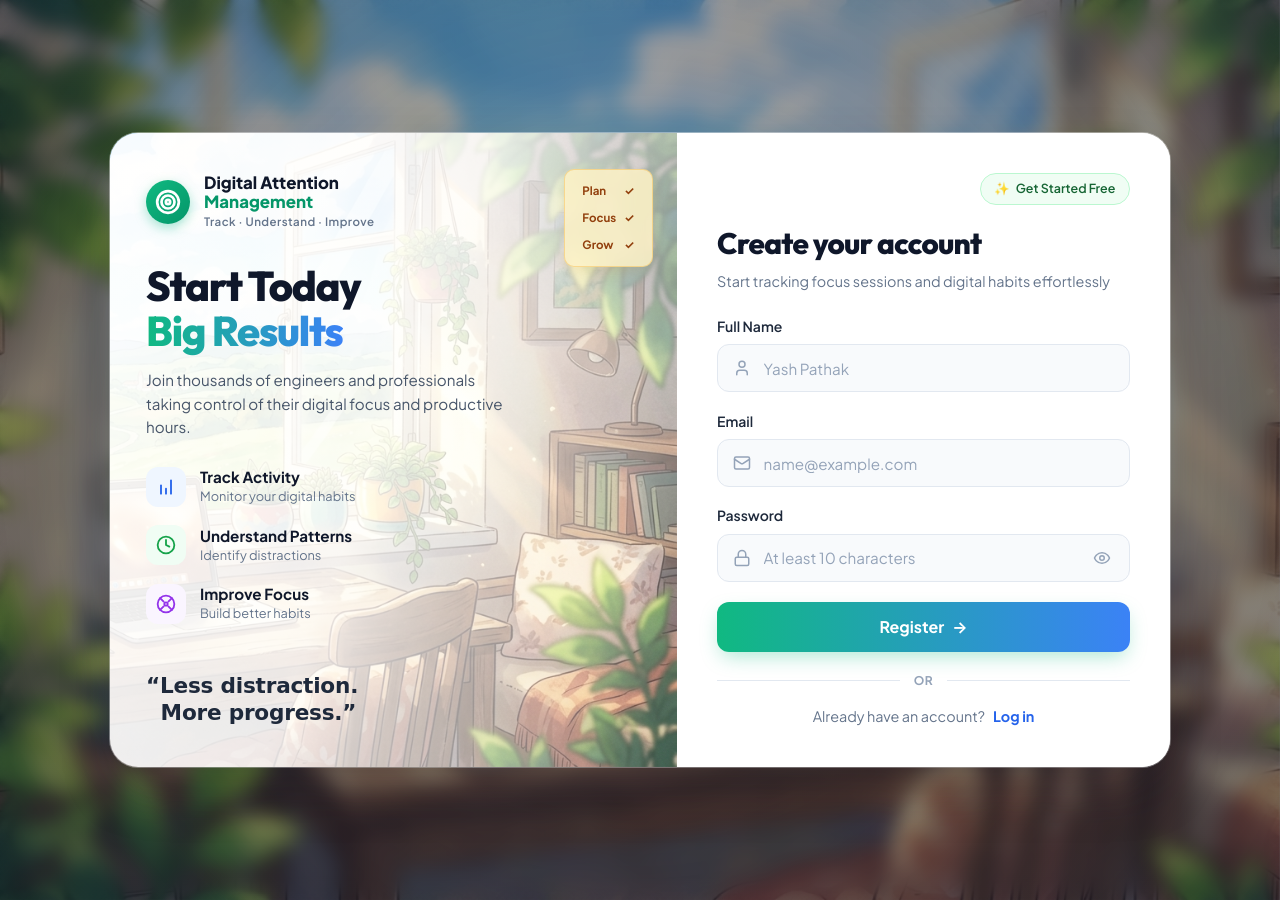
Scenario: Auth Feature › register validation shows field errors for invalid input
The image size is (1280, 900).
Type "not-an-email" into the field labelled "Email" at (924, 463), box top-left (717, 439), bottom-right (1130, 487)
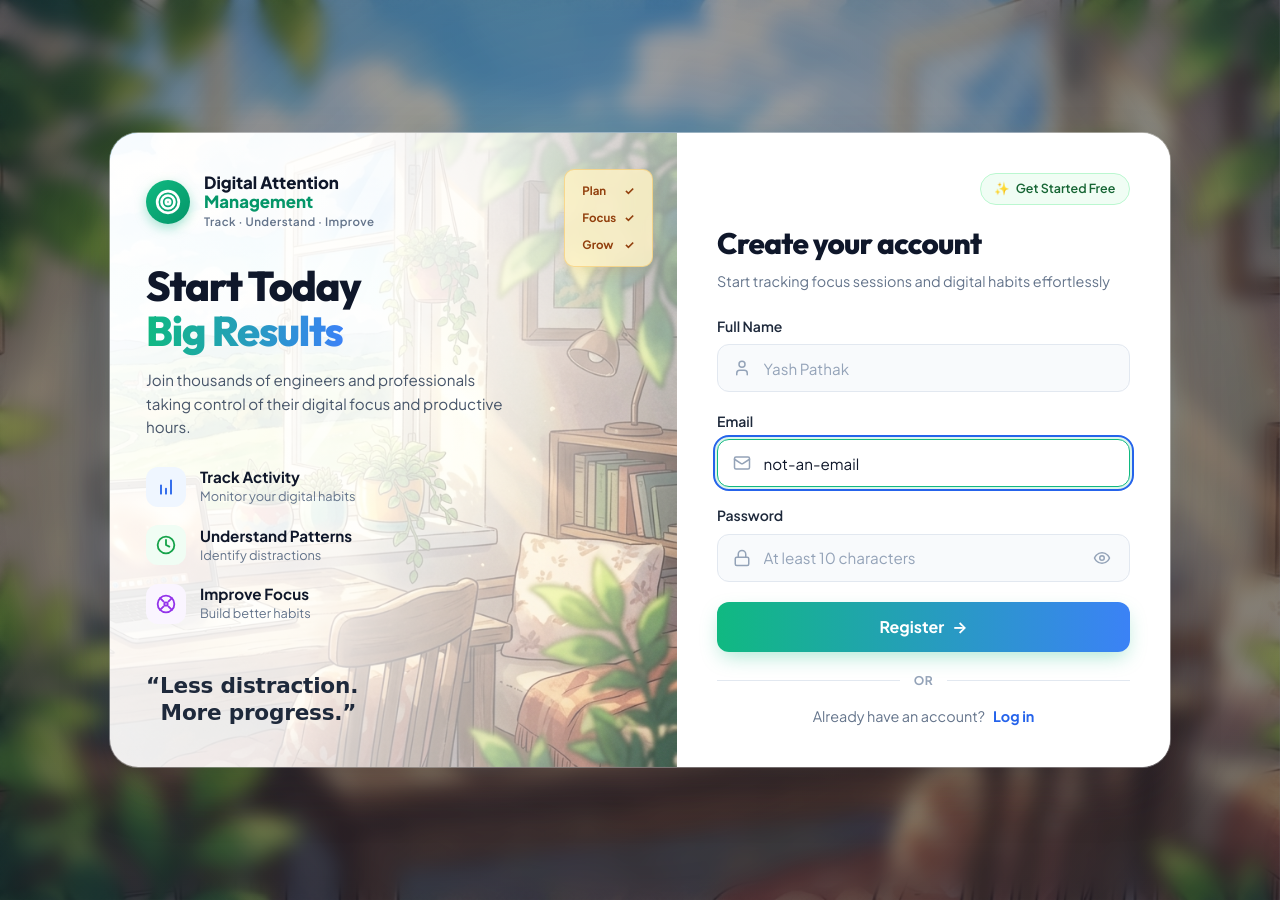
Type "short" into the password field labelled "Password" at (924, 558), box top-left (717, 534), bottom-right (1130, 582)
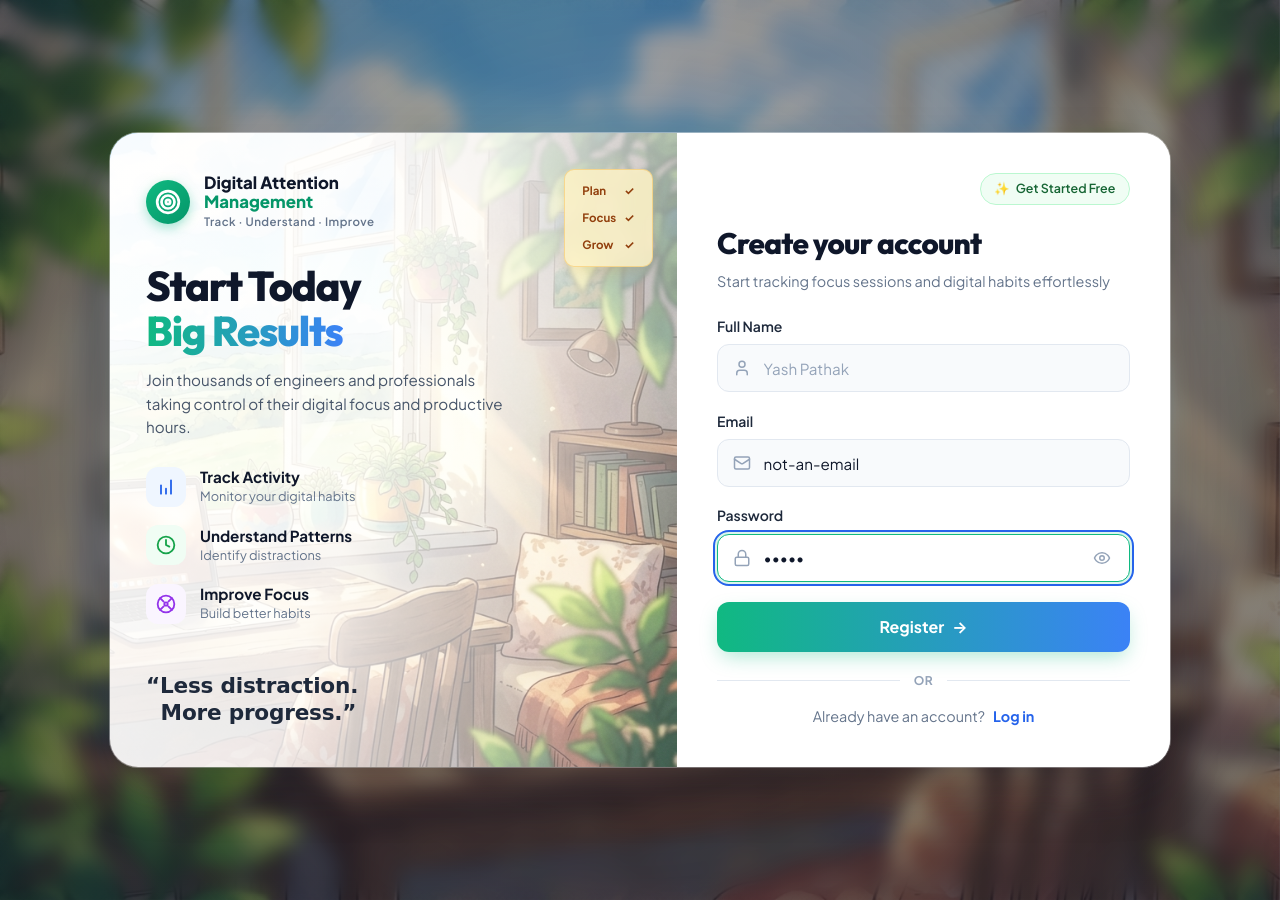
Click the button "Register →" at (924, 627), box top-left (717, 602), bottom-right (1130, 652)
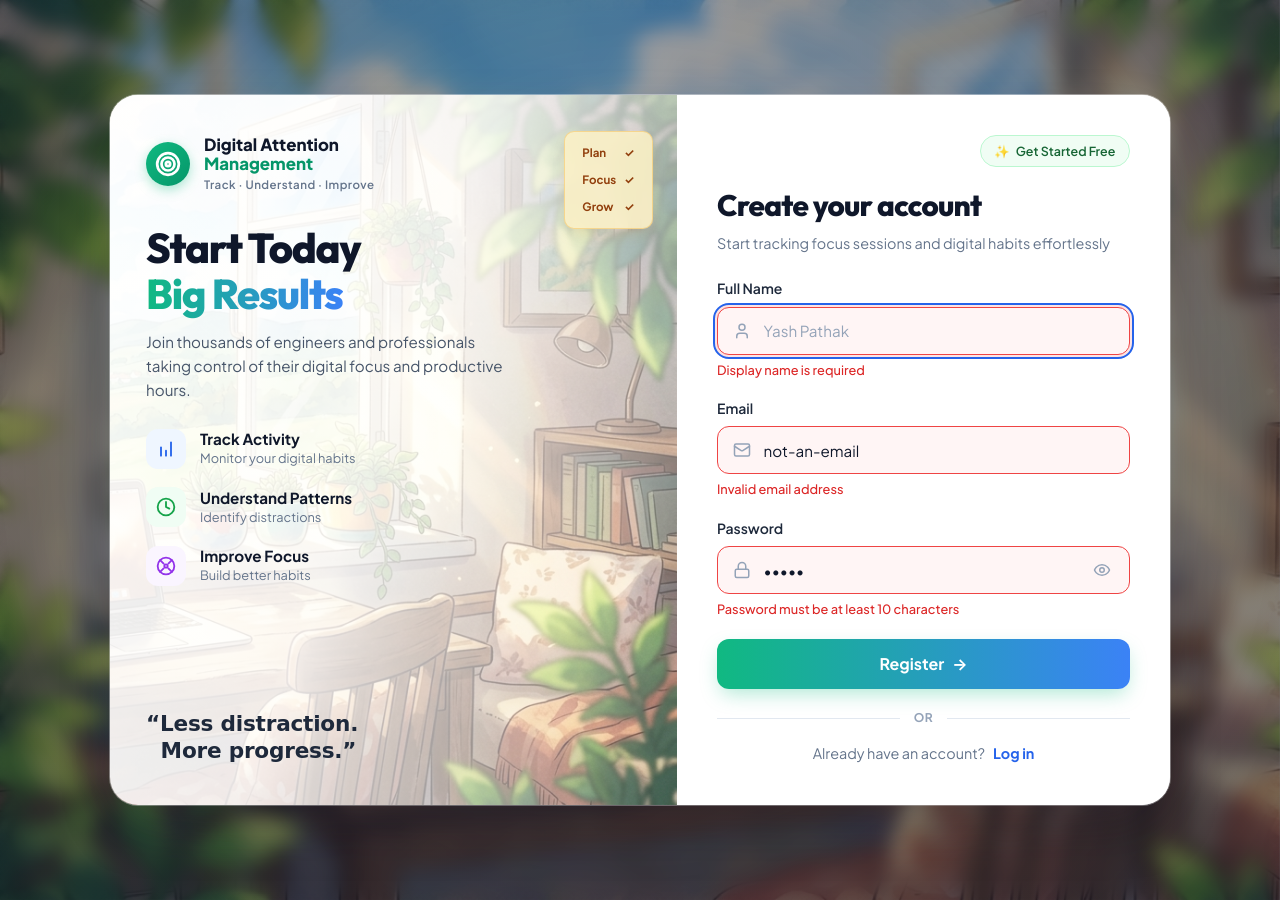
expect the text "Invalid email address" is shown: met, box top-left (717, 481), bottom-right (844, 497)
expect the text "Password must be at least 10 characters" is shown: met, box top-left (717, 601), bottom-right (959, 617)
